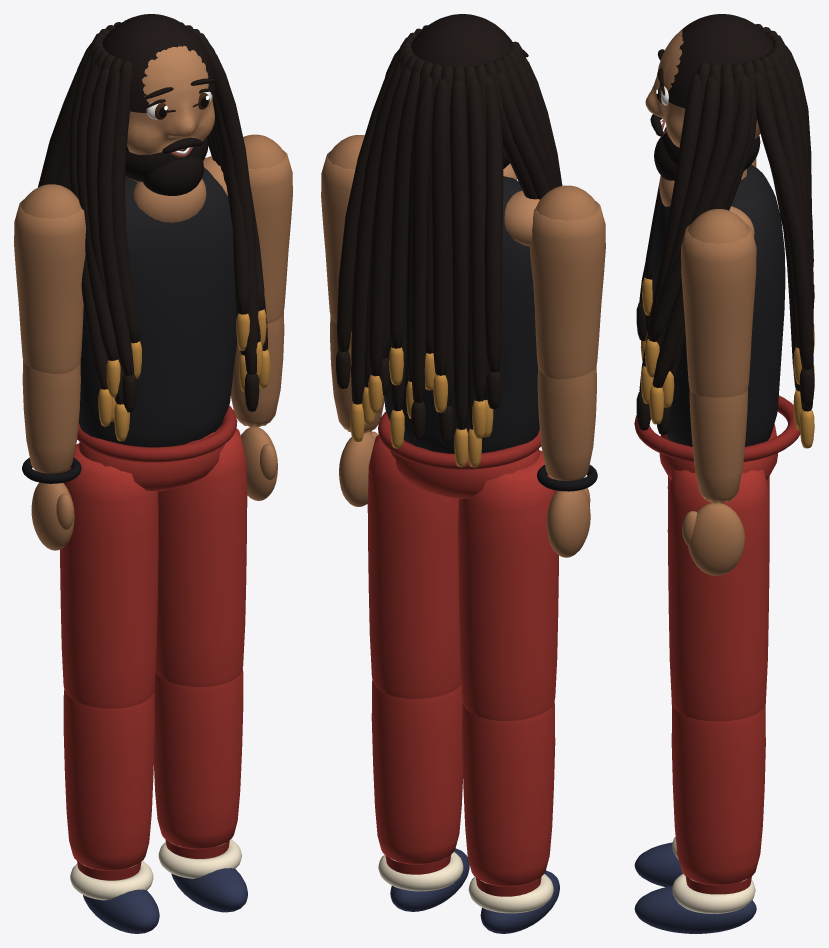
File: dad-BHDHdcyu.glb
The picture shows the model from 3 angles, left to right: view 1: azimuth 30°, elevation 25°; view 2: azimuth 150°, elevation 25°; view 3: azimuth 270°, elevation 25°; orthographic projection. The views are drawn at different scales.
Parts seen in each view (by area): view 1: dad_locs_dad_locs, dad_spine_dad_tank, dad_leg0_dad_joggers, dad_leg1_dad_joggers, dad_knee0_dad_joggers, dad_knee1_dad_joggers, dad_arm0_TEX_tattoo, dad_elbow0_TEX_tattoo, dad_head_dad_skin, dad_arm1_TEX_tattoo, dad_elbow1_TEX_tattoo, dad_head_TEX_braids_dad (+12 smaller); view 2: dad_locs_dad_locs, dad_leg0_dad_joggers, dad_leg1_dad_joggers, dad_knee0_dad_joggers, dad_knee1_dad_joggers, dad_arm0_TEX_tattoo, dad_spine_dad_tank, dad_elbow0_TEX_tattoo, dad_locs_dad_honey_tips, dad_head_TEX_braids_dad, dad_arm1_TEX_tattoo, dad_elbow1_TEX_tattoo (+10 smaller); view 3: dad_locs_dad_locs, dad_leg1_dad_joggers, dad_knee1_dad_joggers, dad_arm1_TEX_tattoo, dad_spine_dad_tank, dad_elbow1_TEX_tattoo, dad_head_TEX_braids_dad, dad_locs_dad_honey_tips, dad_knee1_slipper_navy, dad_hips_dad_joggers_rib, dad_head_dad_skin, dad_knee1_slipper_trim (+5 smaller).
Part boxes in pixels (x1=…): dad_locs_dad_locs: x1=38, y1=20, x2=267, y2=412; dad_spine_dad_tank: x1=78, y1=167, x2=237, y2=447; dad_leg0_dad_joggers: x1=60, y1=443, x2=158, y2=708; dad_leg1_dad_joggers: x1=155, y1=428, x2=247, y2=686; dad_knee0_dad_joggers: x1=63, y1=690, x2=154, y2=870; dad_knee1_dad_joggers: x1=154, y1=668, x2=243, y2=849; dad_arm0_TEX_tattoo: x1=14, y1=184, x2=85, y2=373; dad_elbow0_TEX_tattoo: x1=22, y1=360, x2=80, y2=550; dad_head_dad_skin: x1=127, y1=45, x2=214, y2=181; dad_arm1_TEX_tattoo: x1=243, y1=134, x2=292, y2=323; dad_elbow1_TEX_tattoo: x1=231, y1=311, x2=284, y2=500; dad_head_TEX_braids_dad: x1=102, y1=14, x2=215, y2=113; dad_locs_dad_locs: x1=336, y1=25, x2=562, y2=443; dad_leg0_dad_joggers: x1=458, y1=450, x2=558, y2=720; dad_leg1_dad_joggers: x1=367, y1=435, x2=461, y2=698; dad_knee0_dad_joggers: x1=462, y1=702, x2=555, y2=886; dad_knee1_dad_joggers: x1=371, y1=680, x2=462, y2=864; dad_arm0_TEX_tattoo: x1=529, y1=185, x2=605, y2=379; dad_spine_dad_tank: x1=384, y1=176, x2=539, y2=453; dad_elbow0_TEX_tattoo: x1=537, y1=365, x2=596, y2=557; dad_locs_dad_honey_tips: x1=350, y1=337, x2=493, y2=467; dad_head_TEX_braids_dad: x1=411, y1=14, x2=512, y2=68; dad_arm1_TEX_tattoo: x1=321, y1=135, x2=364, y2=323; dad_elbow1_TEX_tattoo: x1=330, y1=316, x2=384, y2=506; dad_locs_dad_locs: x1=636, y1=24, x2=814, y2=434; dad_leg1_dad_joggers: x1=667, y1=469, x2=769, y2=721; dad_knee1_dad_joggers: x1=671, y1=704, x2=765, y2=885; dad_arm1_TEX_tattoo: x1=681, y1=209, x2=756, y2=397; dad_spine_dad_tank: x1=652, y1=164, x2=785, y2=446; dad_elbow1_TEX_tattoo: x1=682, y1=389, x2=747, y2=575; dad_head_TEX_braids_dad: x1=657, y1=14, x2=773, y2=108; dad_locs_dad_honey_tips: x1=640, y1=277, x2=814, y2=448; dad_knee1_slipper_navy: x1=634, y1=886, x2=756, y2=933; dad_hips_dad_joggers_rib: x1=634, y1=395, x2=800, y2=462; dad_head_dad_skin: x1=645, y1=29, x2=760, y2=179; dad_knee1_slipper_trim: x1=672, y1=873, x2=755, y2=913.
Size of the model in its own units: 0.6084 by 1.91 by 0.3507.
